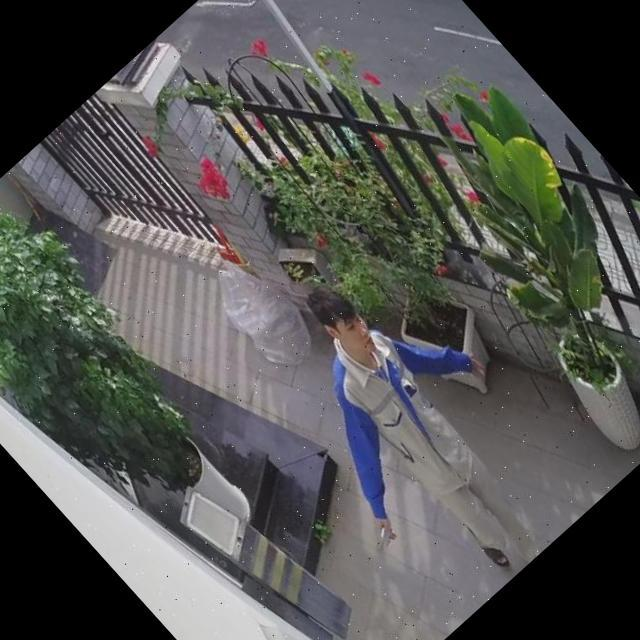person: (227, 238, 600, 624)
